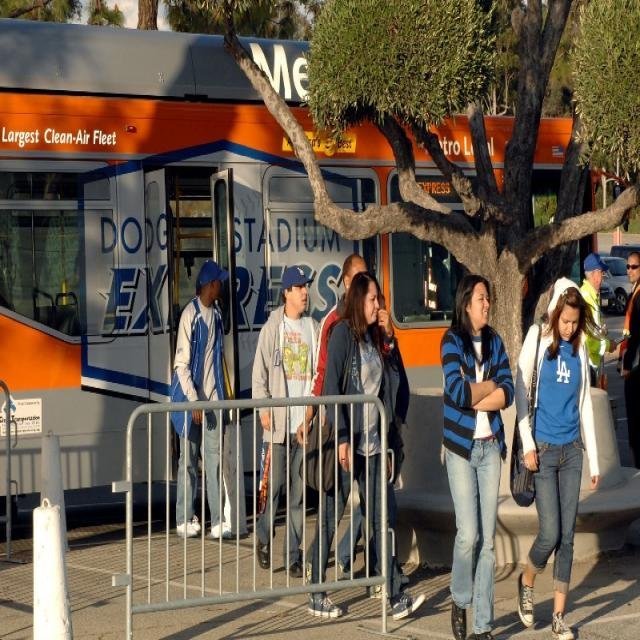body: (298, 268, 428, 622), (511, 274, 602, 639), (295, 253, 391, 598), (436, 270, 518, 639), (249, 263, 326, 581), (331, 287, 411, 584), (167, 257, 230, 548), (489, 534, 639, 639), (615, 250, 640, 469), (578, 251, 617, 388), (153, 599, 286, 639), (423, 238, 456, 313)
